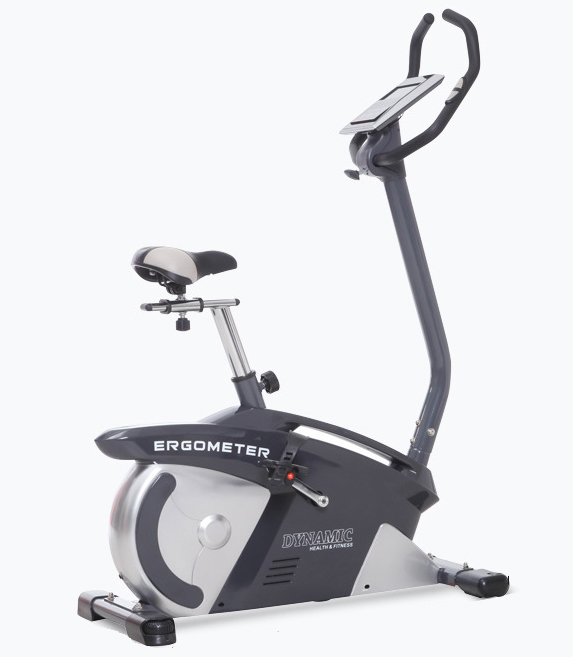gym_bike: (81, 7, 508, 640)
